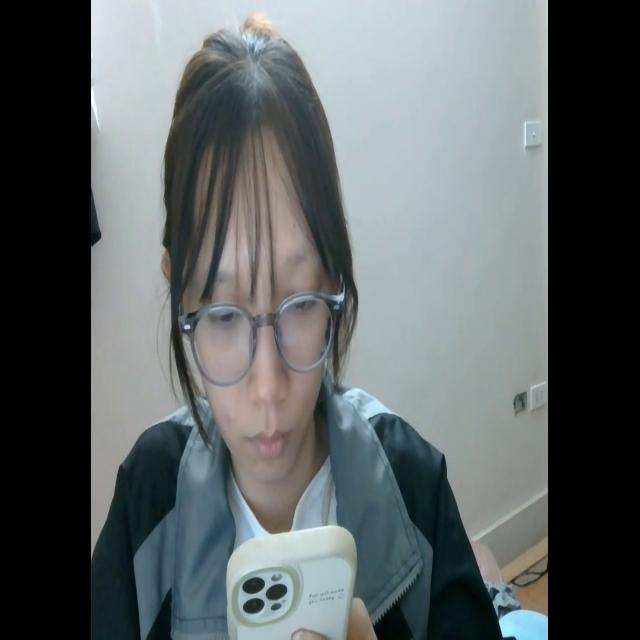phone: (223, 514, 361, 640)
student: (101, 28, 498, 640)
